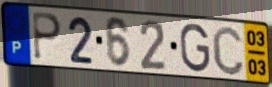2: (65, 12, 97, 66), (137, 18, 168, 73)
6: (105, 15, 133, 69)
C: (210, 24, 246, 77)
G: (178, 22, 212, 74)
P: (31, 10, 64, 63)
